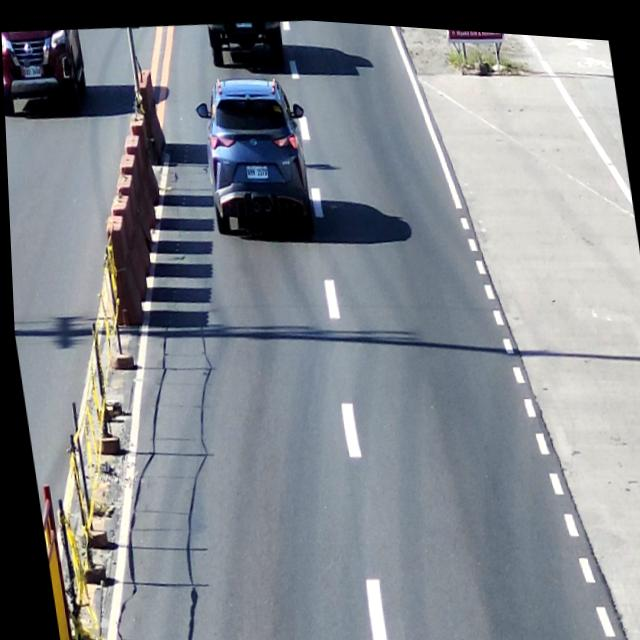Car: (194, 68, 314, 238), (1, 23, 91, 122), (201, 13, 290, 70)
License-Plate: (242, 159, 269, 182), (20, 63, 43, 81)
